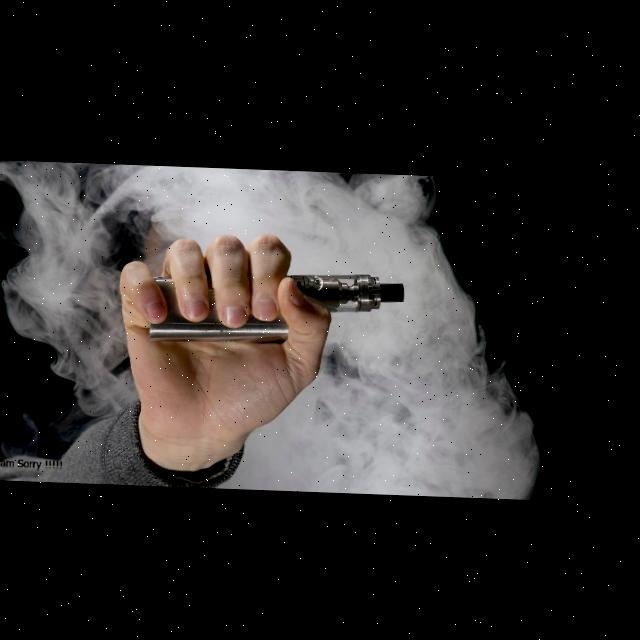vape: (146, 265, 407, 347)
